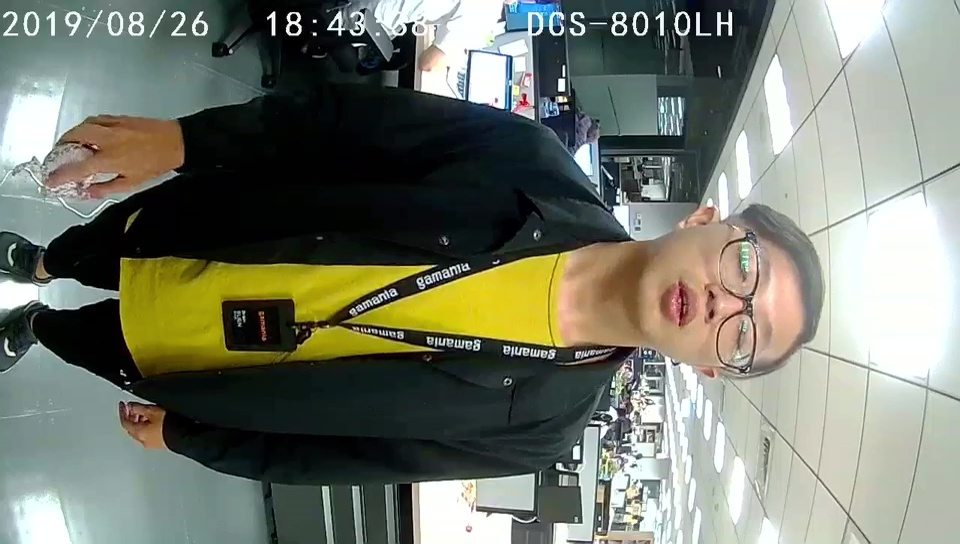pig: (38, 139, 95, 197)
